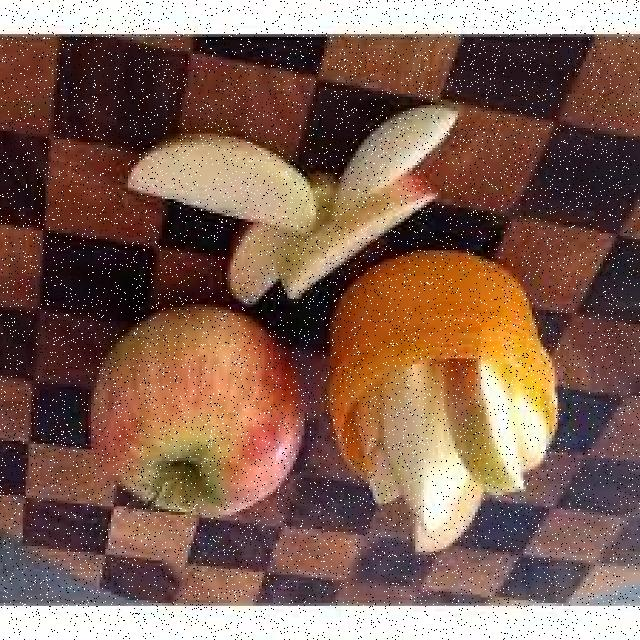Apple: (85, 306, 306, 522), (130, 134, 314, 236), (282, 202, 436, 291), (334, 106, 459, 198), (441, 358, 526, 492), (377, 351, 444, 518), (232, 233, 282, 311), (514, 396, 546, 471), (351, 394, 383, 458)
